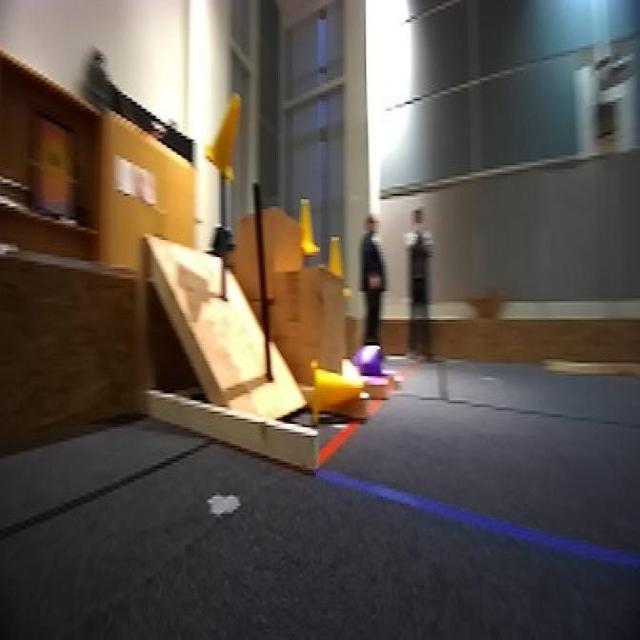frc_cone: (203, 89, 244, 187), (310, 363, 364, 422), (296, 198, 317, 255), (326, 237, 344, 279)
frc_cube: (355, 342, 385, 385)
